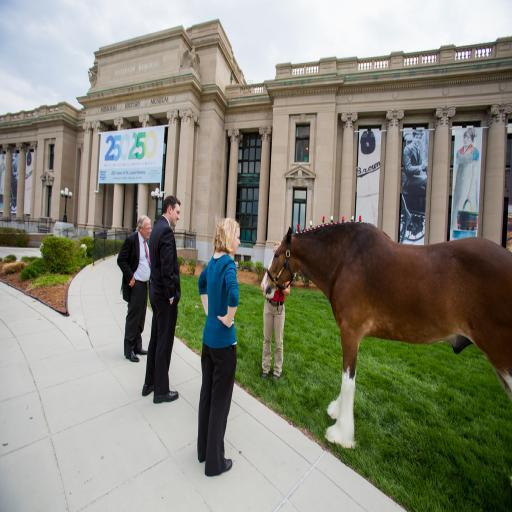horse: (260, 218, 512, 450)
